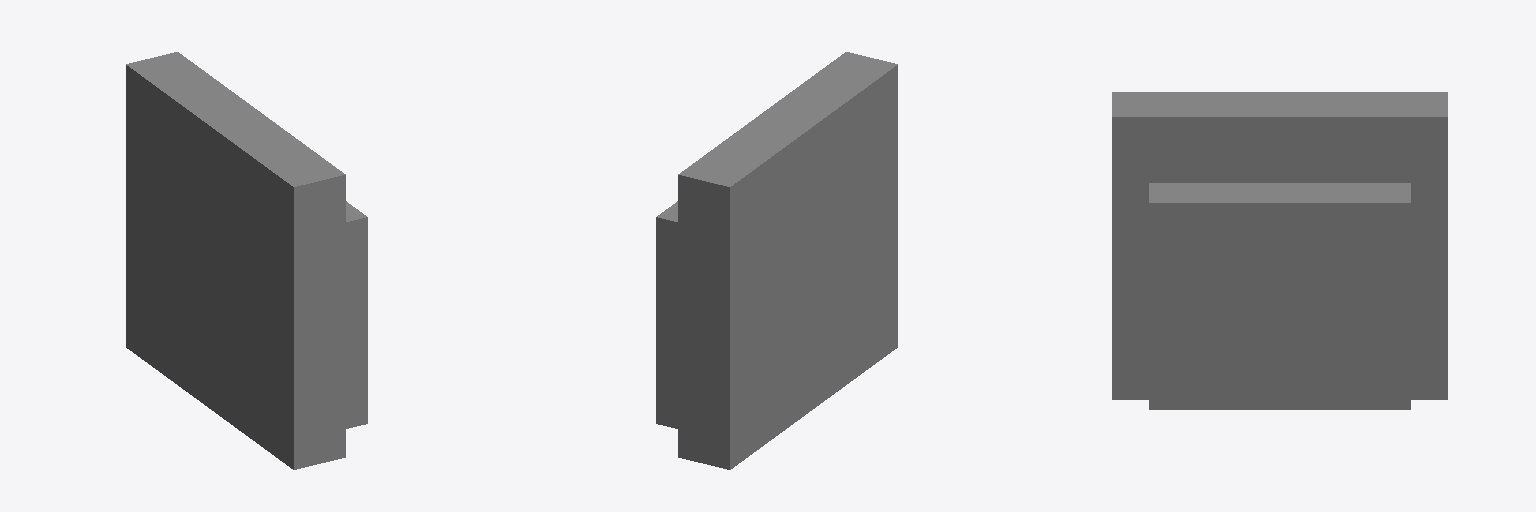
The model's file is emergency_exit_light.obj.
3 renders of one model, left to right at view 1: azimuth 30°, elevation 25°; view 2: azimuth 150°, elevation 25°; view 3: azimuth 270°, elevation 25°, orthographic.
Parts seen in each view (by area): view 1: ???; view 2: ???; view 3: ???.
Boxes of the visible parts, box(x1,y1,x2,y2) form: ???: box(126, 52, 367, 469); ???: box(656, 52, 897, 469); ???: box(1112, 92, 1447, 409).
Bounding box in the file's own units: 0.0976 × 0.2852 × 0.3072.